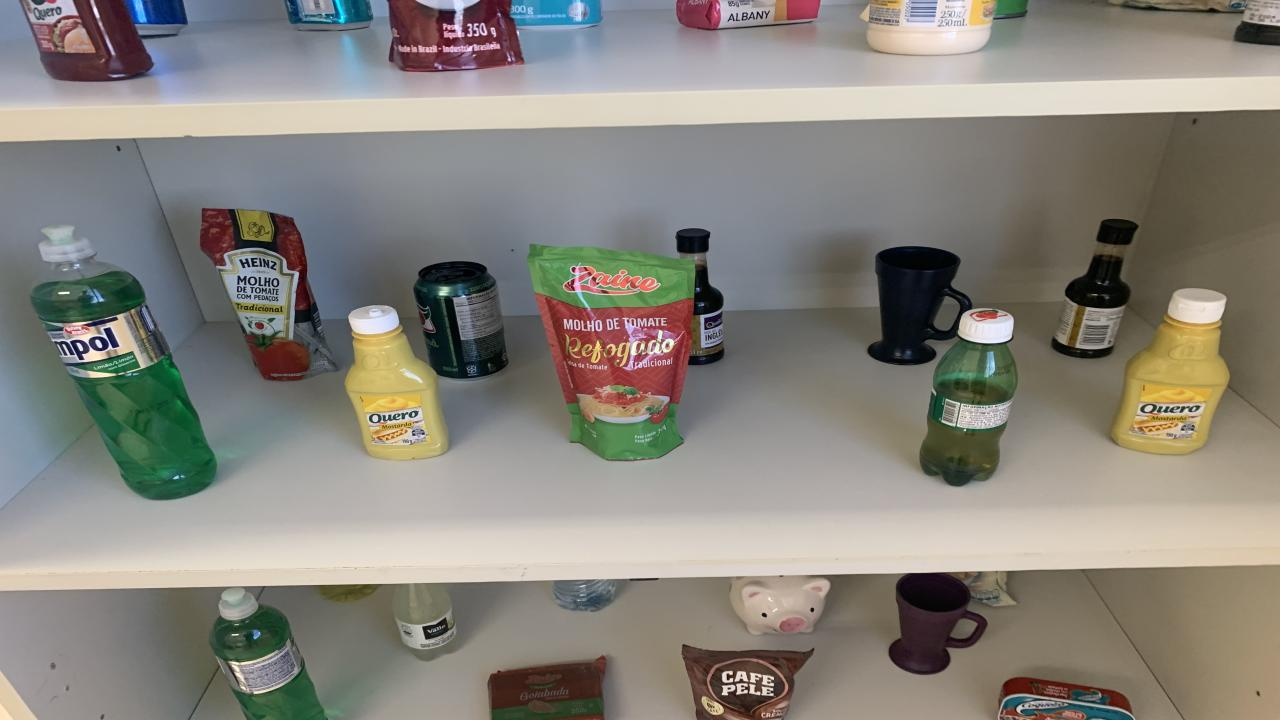Cleaner-Cleanup_Items: (510, 0, 602, 30)
Coffee-Pantry_Items: (682, 645, 812, 720)
Detergent-Cleanup_Items: (30, 227, 215, 499), (210, 587, 325, 720), (318, 585, 380, 602)
English_Sauce-Pantry_Items: (1052, 219, 1138, 358), (675, 229, 725, 366), (1235, 0, 1280, 45)
Flakes-Snacks: (950, 572, 1015, 608)
Guarana-Drinks: (920, 308, 1018, 486)
Guarana_Can-Drinks: (415, 262, 508, 379)
Guava-Snacks: (488, 656, 608, 720)
Ketchup-Pantry_Items: (20, 0, 152, 81)
Mayonnaise-Pantry_Items: (860, 0, 995, 54)
Mustard-Pantry_Items: (1110, 289, 1230, 454), (345, 306, 448, 459)
Pig_Safe-Miscellaneous: (730, 576, 830, 634)
Pringles-Snacks: (995, 0, 1028, 19)
Soap-Cleanup_Items: (675, 0, 820, 30)
Soda-Drinks: (392, 583, 455, 651)
Tea-Drinks: (285, 0, 372, 30)
Tomato_Sauce-Pantry_Items: (528, 246, 695, 459), (200, 208, 338, 381), (388, 0, 525, 71)
Tonic-Drinks: (125, 0, 188, 38)
Tuna_Can-Pantry_Items: (998, 677, 1135, 720)
Water_Bottle-Drinks: (552, 579, 618, 611)
